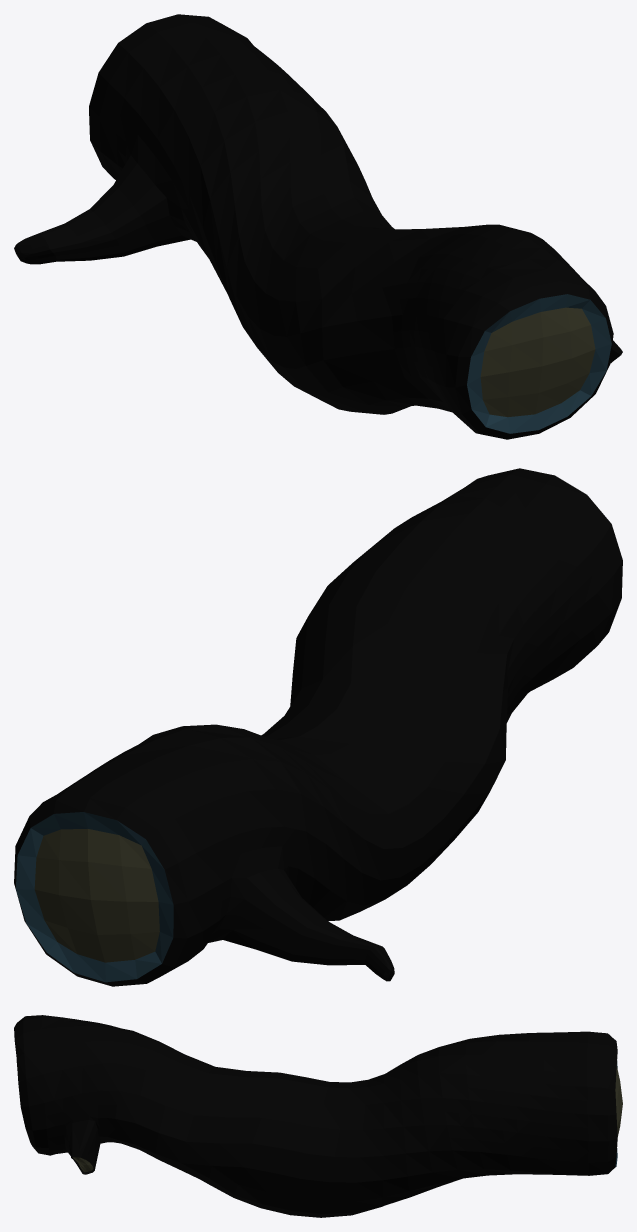
The model's file is log.fbx.
3 views of the same model, one above another, from view 1: azimuth 30°, elevation 25°; view 2: azimuth 150°, elevation 25°; view 3: azimuth 270°, elevation 25° (orthographic). The views are drawn at different scales.
Parts seen in each view (by area): view 1: pasted__pCube1; view 2: pasted__pCube1; view 3: pasted__pCube1.
Part boxes in pixels (left/top/right/bottom): pasted__pCube1: left=14, top=14, right=622, bottom=439; pasted__pCube1: left=14, top=468, right=622, bottom=986; pasted__pCube1: left=14, top=1015, right=622, bottom=1217.
Bounding box in the file's own units: 1.78 × 1.38 × 3.97.
